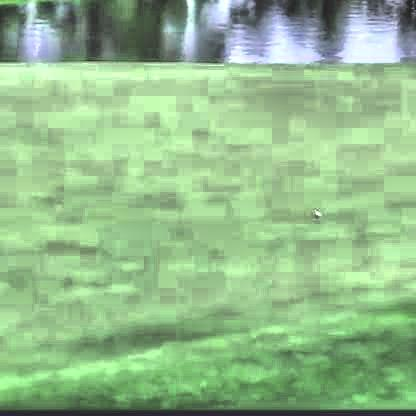golfball: (309, 204, 319, 215)
